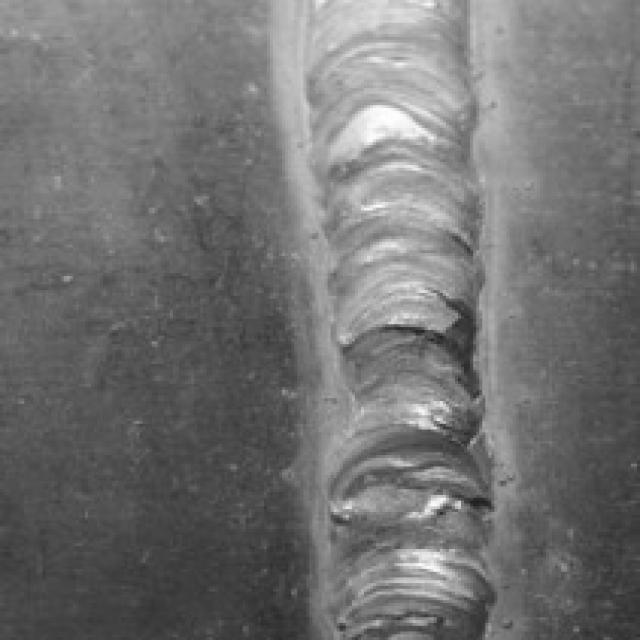Bad Weld: (279, 0, 507, 637)
Defect: (376, 307, 449, 350)
